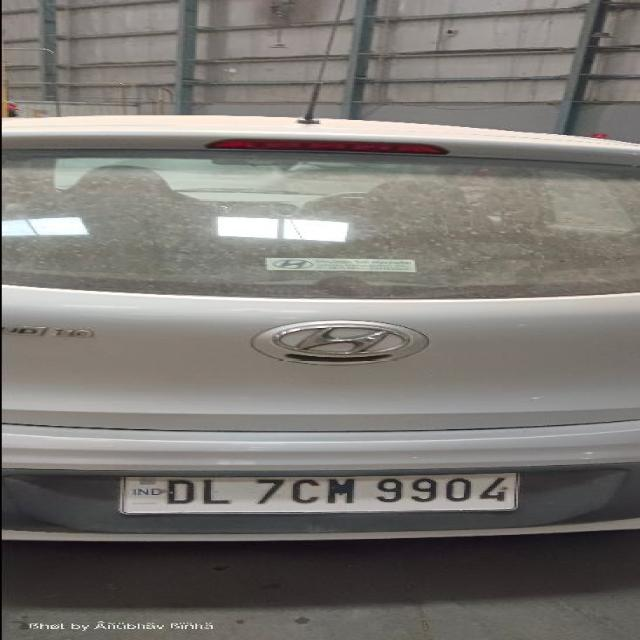license_plate: (115, 472, 520, 514)
